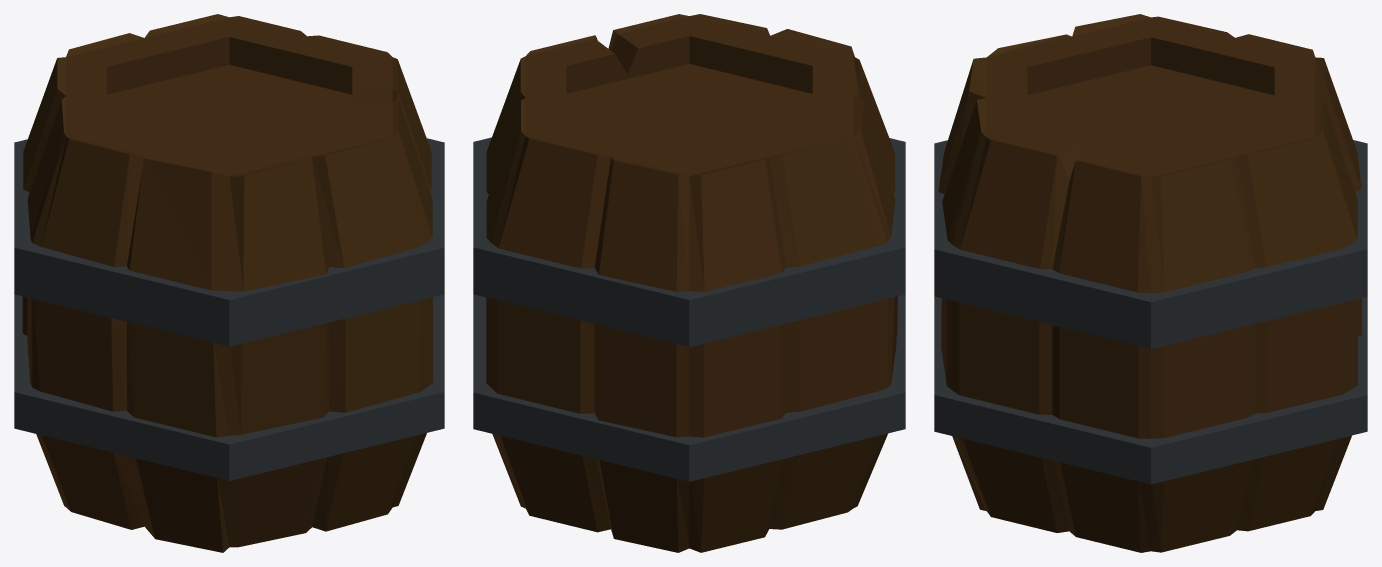
Rendered from barrel_single.fbx.
The picture shows the model from 3 angles, left to right: view 1: azimuth 30°, elevation 25°; view 2: azimuth 150°, elevation 25°; view 3: azimuth 270°, elevation 25°; orthographic projection.
Parts seen in each view (by area): view 1: barrel_single; view 2: barrel_single; view 3: barrel_single.
Part boxes in pixels (x1,y1,x2,y2): barrel_single: (14,14,444,552); barrel_single: (473,14,905,552); barrel_single: (934,14,1367,552).
Bounding box in the file's own units: 52.76 × 44.35 × 45.69.
